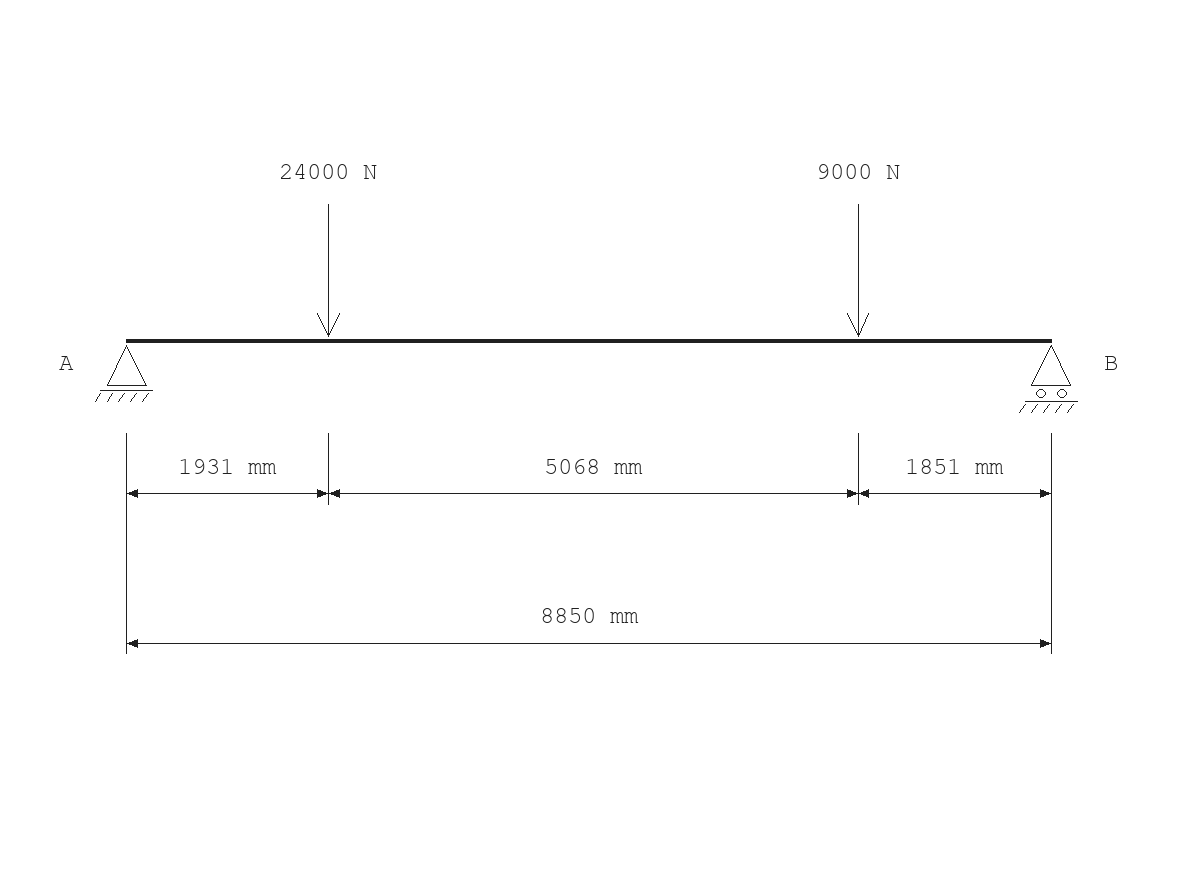pin_support: (95, 345, 153, 402)
point_load: (317, 204, 340, 337), (847, 204, 869, 337)
roller_support: (1019, 345, 1078, 413)
